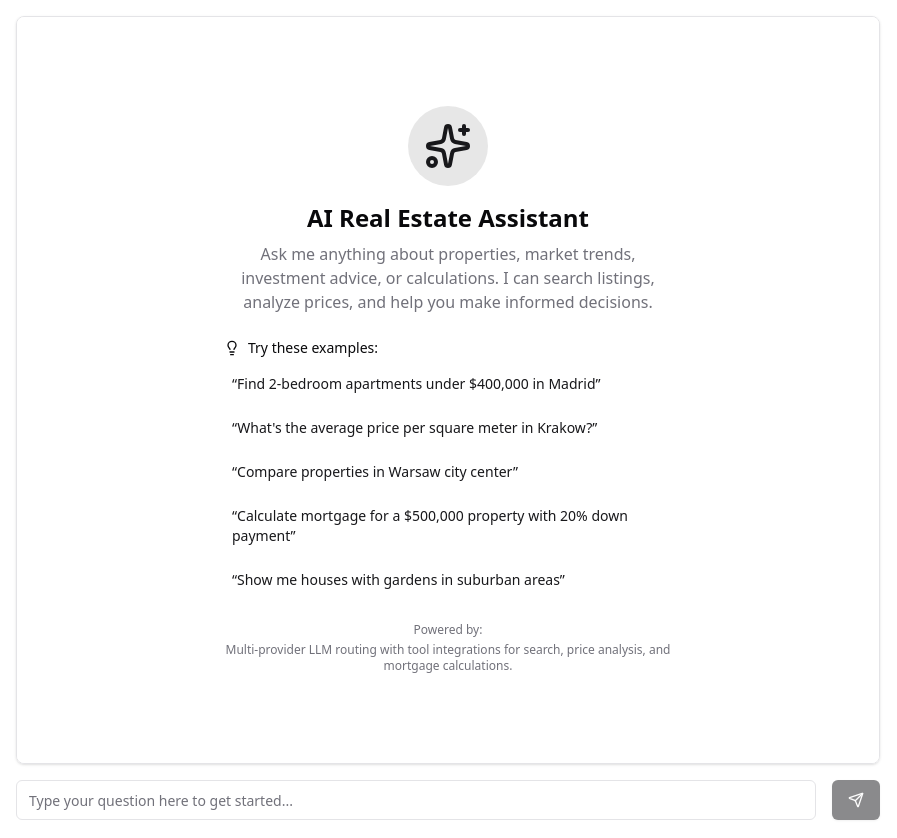
Test: ChatPage › handles error state
The image size is (897, 838).
Type "Error" into the field with placeholder "Type your question here to get started..." at (416, 800), box [16,780,816,820]
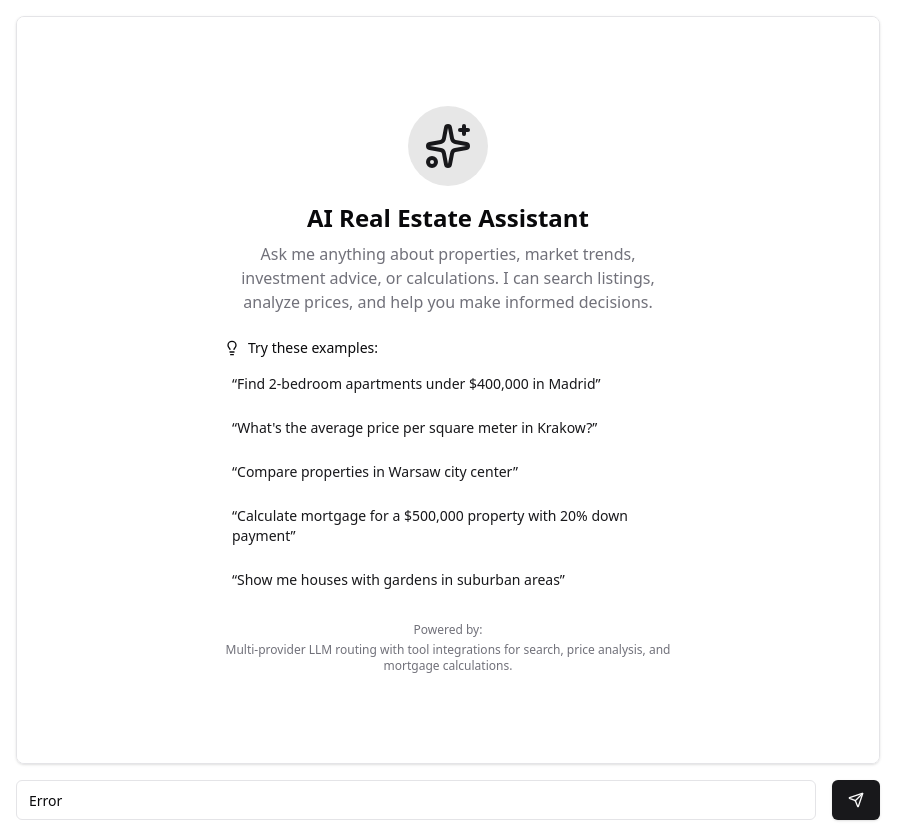
Click the button named "send message" at (856, 800), box [832,780,880,820]
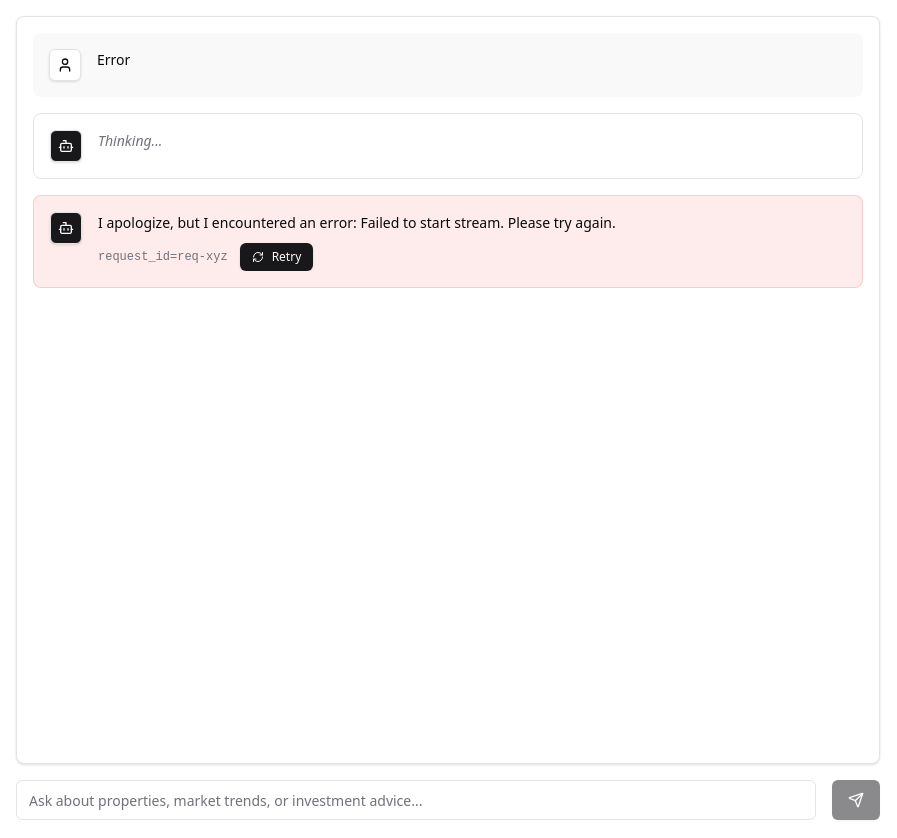
expect the text "I apologize, but I encountered an error: Failed to start stream. Please try again." is shown: met, box [98,213,616,232]
expect the text "request_id=req-xyz" is shown: met, box [98,249,228,265]
